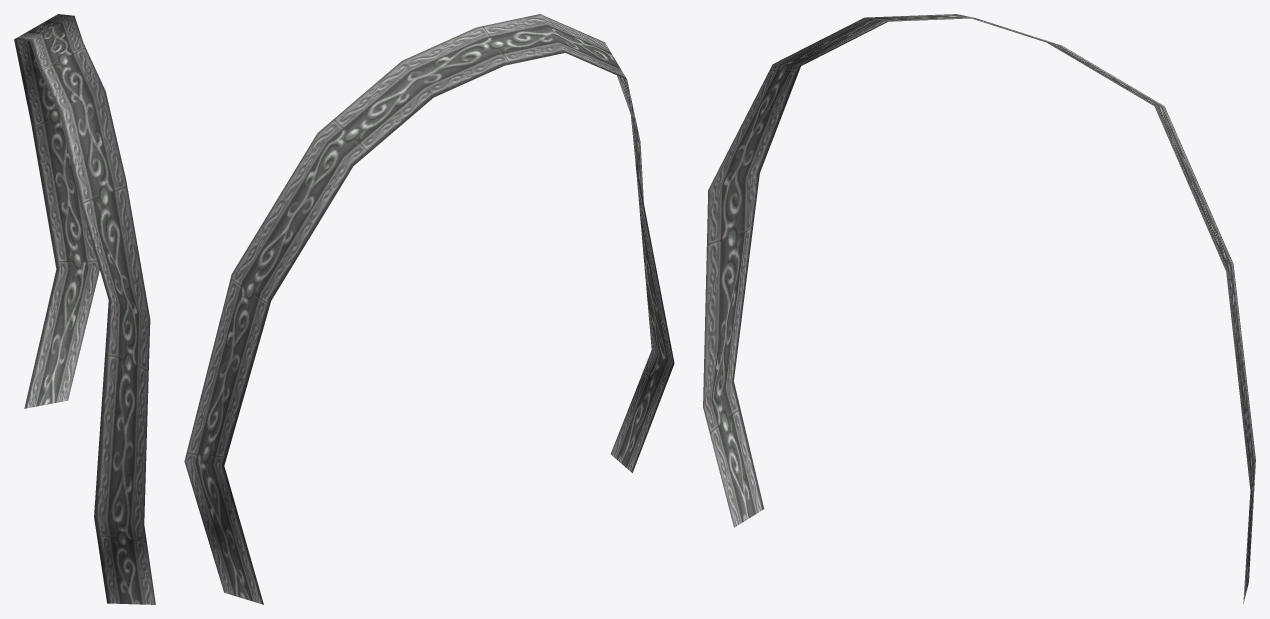
Rendered from EKH_THRONE_PS_TH_METAL_TRIM0298.fbx.
The picture shows the model from 3 angles, left to right: view 1: azimuth 30°, elevation 25°; view 2: azimuth 150°, elevation 25°; view 3: azimuth 270°, elevation 25°; orthographic projection. The views are drawn at different scales.
Visible parts, largest first — view 1: EKH_THRONE_PS_TH_METAL_TRIM0298; view 2: EKH_THRONE_PS_TH_METAL_TRIM0298; view 3: EKH_THRONE_PS_TH_METAL_TRIM0298.
Boxes of the visible parts, left/top/right/bottom form: EKH_THRONE_PS_TH_METAL_TRIM0298: left=14, top=14, right=155, bottom=604; EKH_THRONE_PS_TH_METAL_TRIM0298: left=184, top=14, right=674, bottom=604; EKH_THRONE_PS_TH_METAL_TRIM0298: left=703, top=14, right=1255, bottom=603.
Bounding box in the file's own units: 13454 × 25686 × 24314.
1 material, 1 textured.
